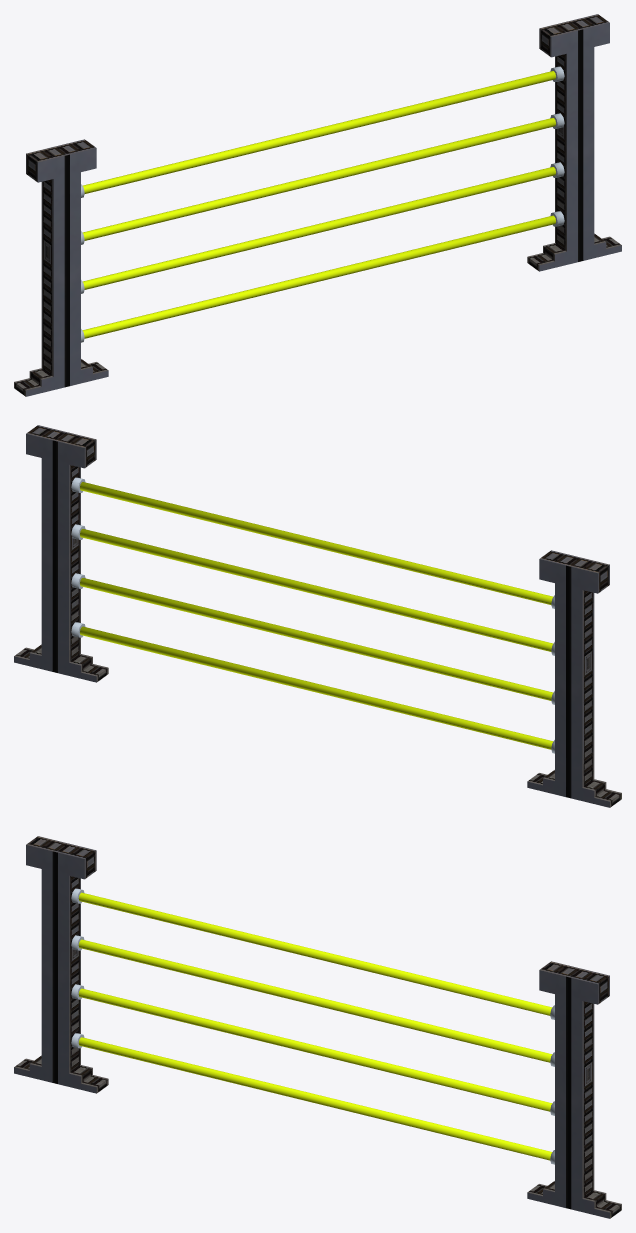
The model's file is laser.glb.
The picture shows the model from 3 angles, top to bottom: view 1: azimuth 30°, elevation 25°; view 2: azimuth 150°, elevation 25°; view 3: azimuth 330°, elevation 25°; orthographic projection.
Visible parts, largest first — view 1: Scifi_WidthLaser_barrier; view 2: Scifi_WidthLaser_barrier; view 3: Scifi_WidthLaser_barrier.
Part boxes in pixels (x1=…): Scifi_WidthLaser_barrier: x1=14, y1=14, x2=621, y2=396; Scifi_WidthLaser_barrier: x1=14, y1=425, x2=621, y2=807; Scifi_WidthLaser_barrier: x1=14, y1=836, x2=621, y2=1218.
Bounding box in the file's own units: 3.96 × 1.47 × 0.1377.
1 material, 1 textured.
